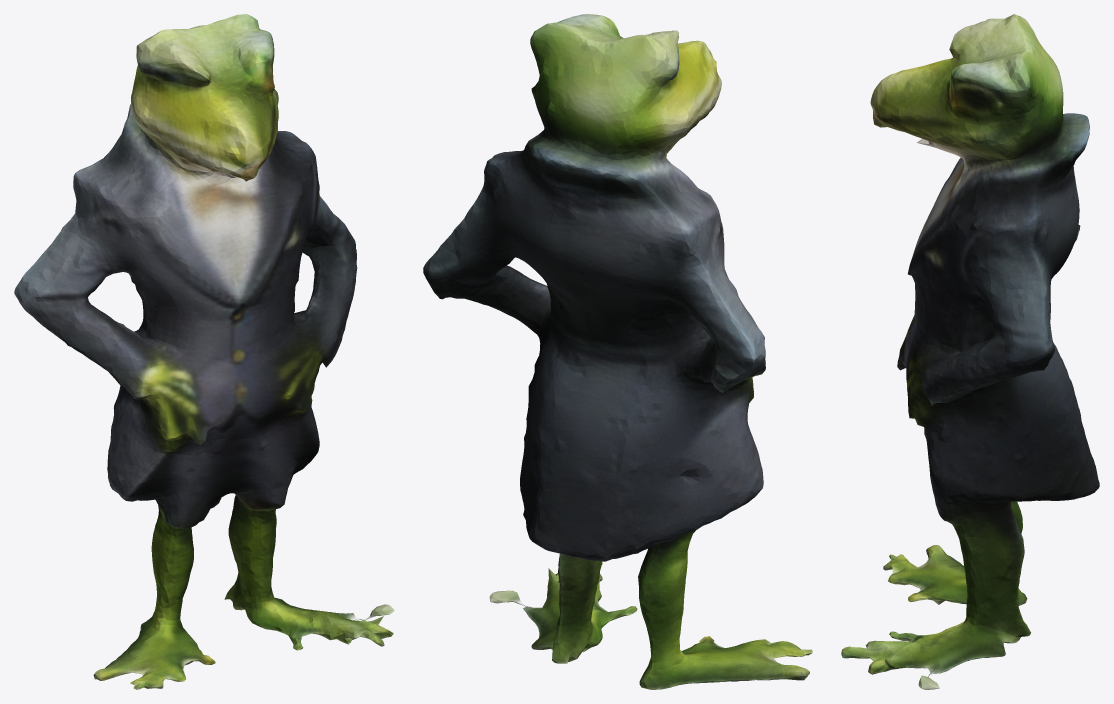
File: rat.glb
3 renders of one model, left to right at view 1: azimuth 30°, elevation 25°; view 2: azimuth 150°, elevation 25°; view 3: azimuth 270°, elevation 25°, orthographic. The views are drawn at different scales.
Bounding box in the file's own units: 0.5553 × 1.01 × 0.3965.
Materials: 1 (1 with a texture image).
